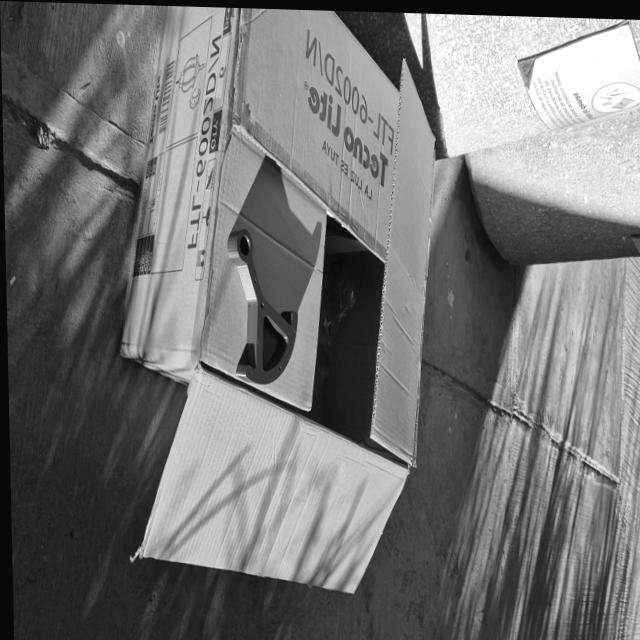haptic: (226, 227, 300, 387)
